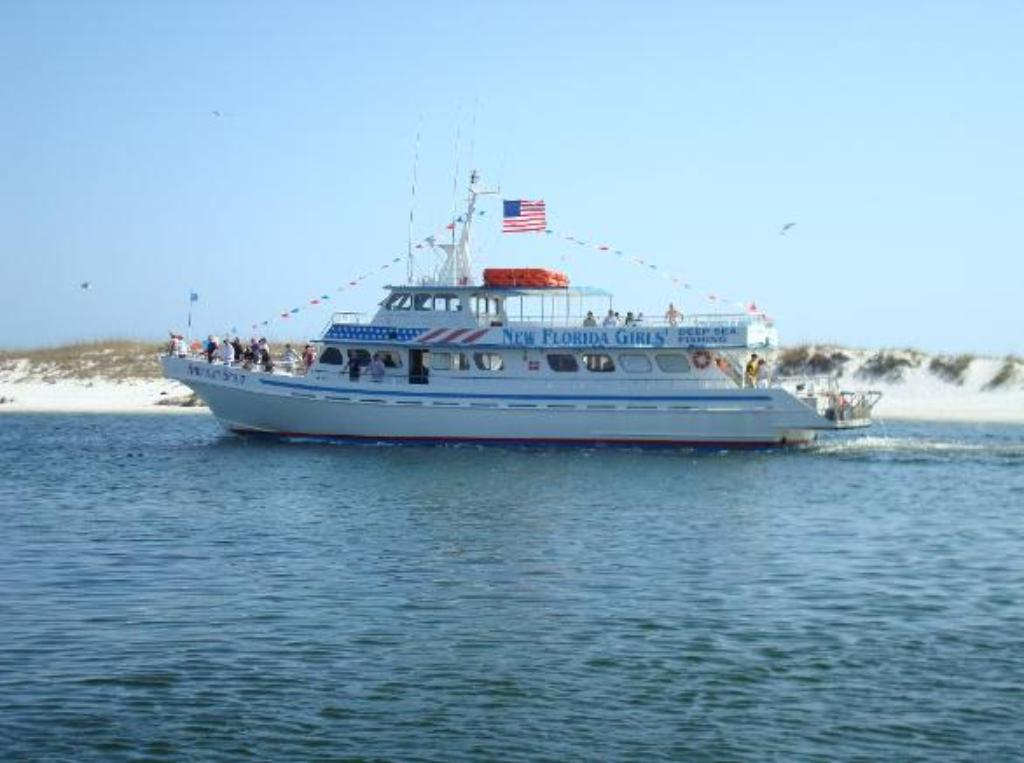PassengerShip: (138, 170, 880, 454)
